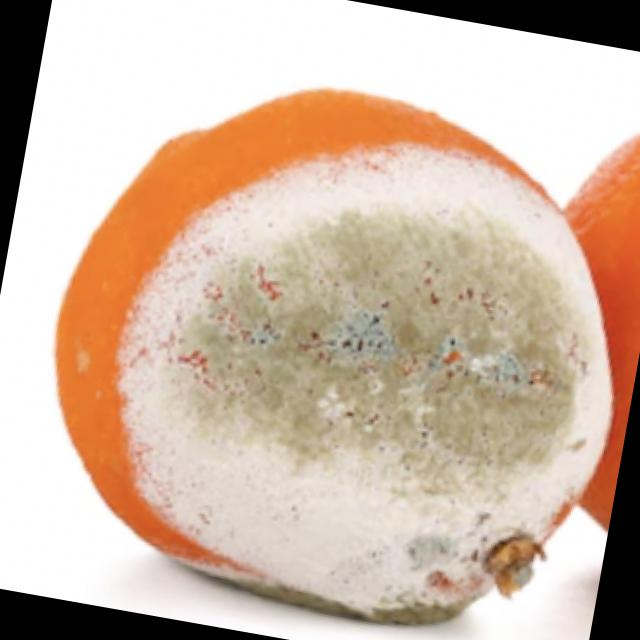rotten-orange: (11, 44, 640, 640)
